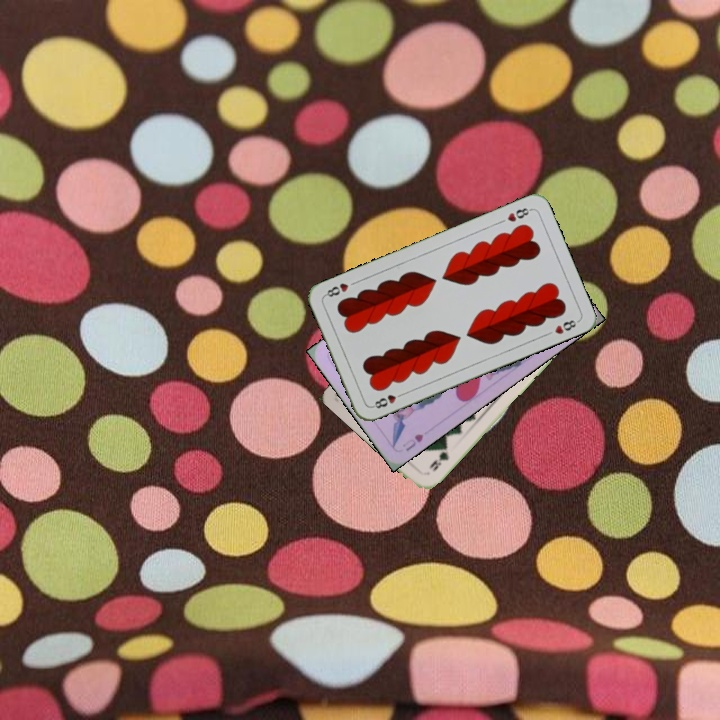G9: (425, 442, 451, 474)
H8: (368, 389, 407, 411), (503, 204, 534, 224)
HU: (398, 430, 426, 454)
